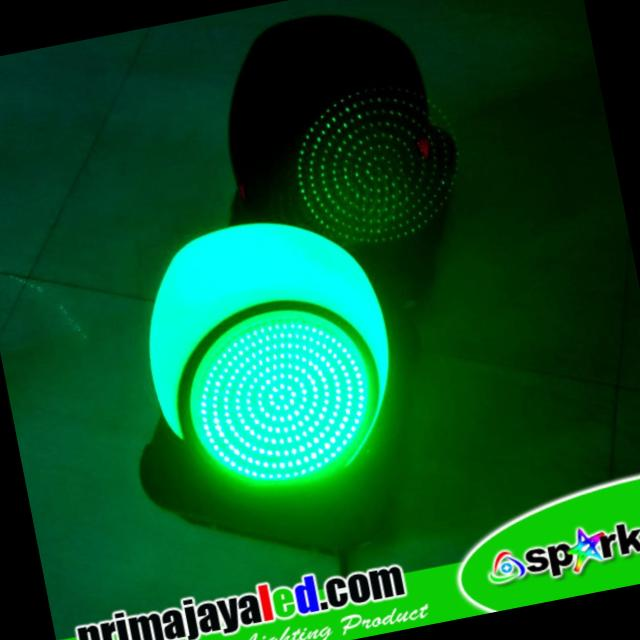green-lights: (172, 293, 390, 503)
